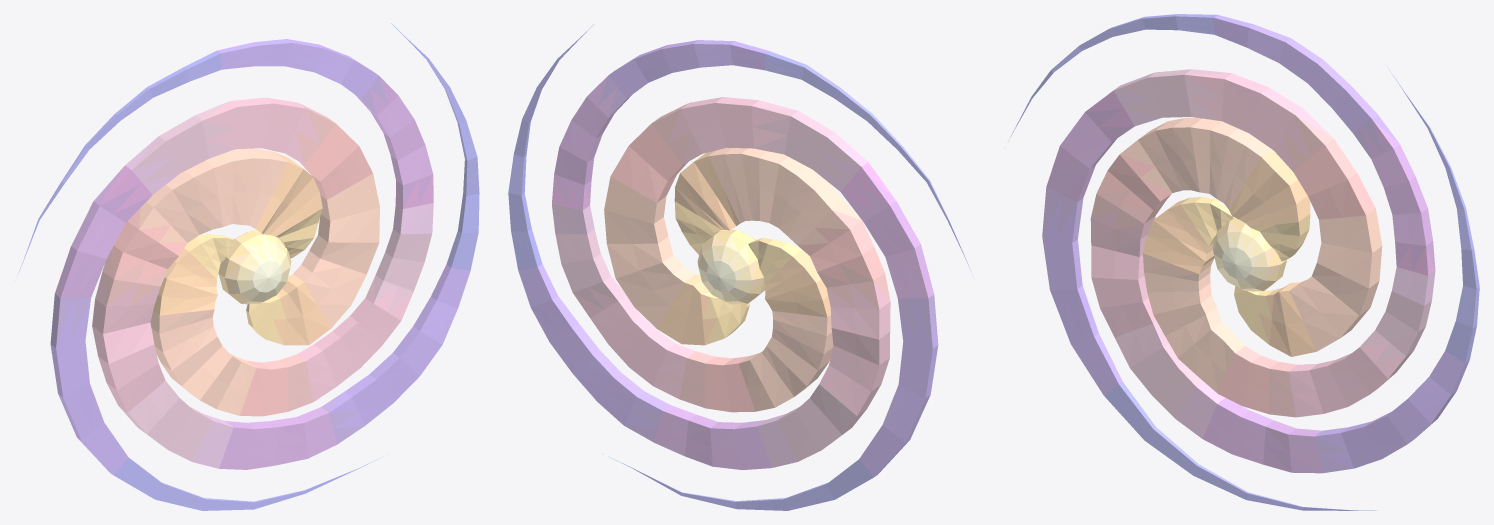
The model's file is galaxy-008.glb.
3 renders of one model, left to right at view 1: azimuth 30°, elevation 25°; view 2: azimuth 150°, elevation 25°; view 3: azimuth 330°, elevation 25°, orthographic. The views are drawn at different scales.
Visible parts, largest first — view 1: galaxy-008; view 2: galaxy-008; view 3: galaxy-008.
Boxes of the visible parts, <box> form: galaxy-008: <box>18,23,479,510</box>; galaxy-008: <box>508,24,973,510</box>; galaxy-008: <box>1008,14,1479,510</box>.
Bounding box in the file's own units: 157 × 150 × 16.6.
